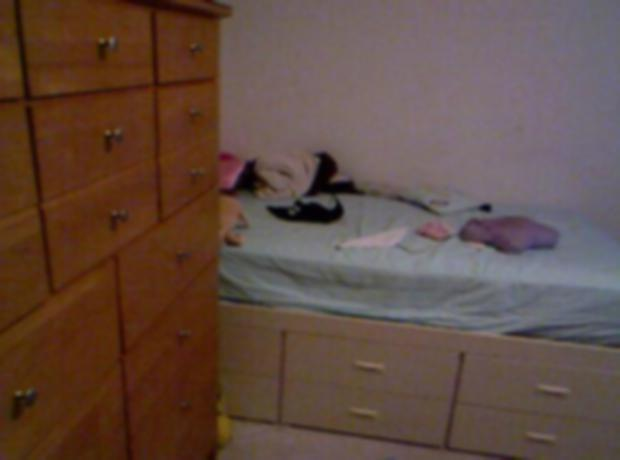Armario: (3, 7, 217, 448)
